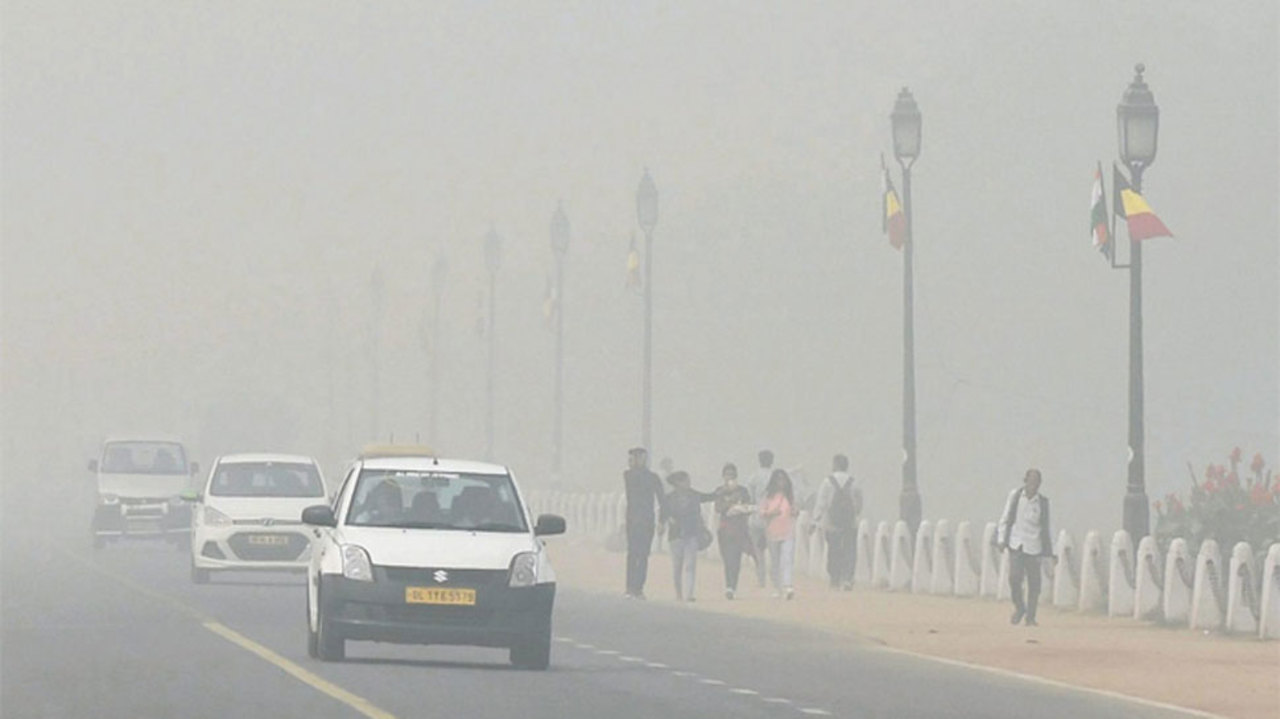car: (303, 444, 560, 673), (185, 454, 329, 578), (85, 428, 195, 548)
person: (998, 465, 1053, 629), (809, 450, 861, 588), (617, 445, 660, 602), (664, 466, 705, 601), (759, 466, 798, 595), (713, 457, 747, 599), (749, 448, 772, 567)
